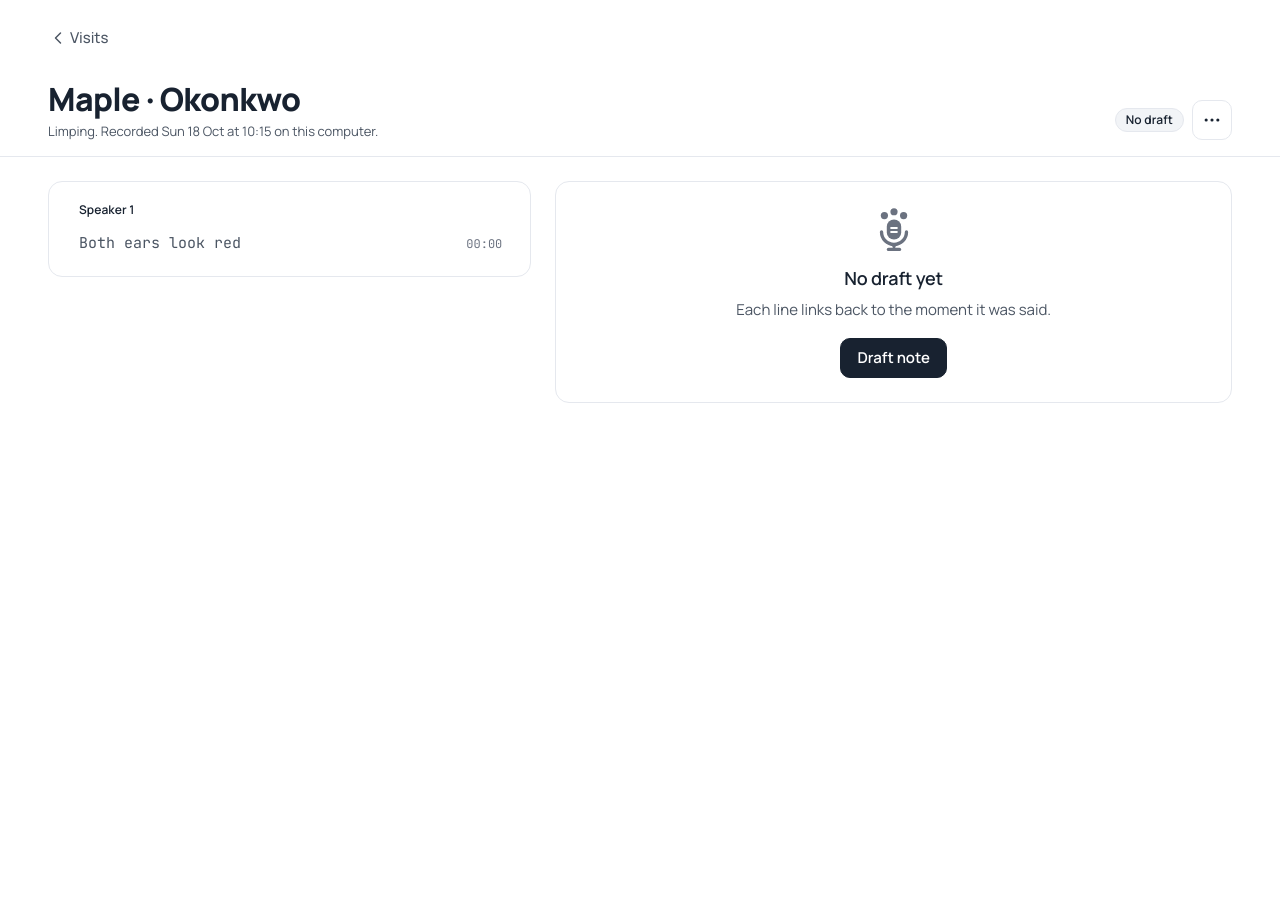
Test: Review: deleting › deletes the recording after the dialog, and shows the line in the player's place
Click the button named "More actions".
click(1212, 120)  # box [1192,100,1232,140]
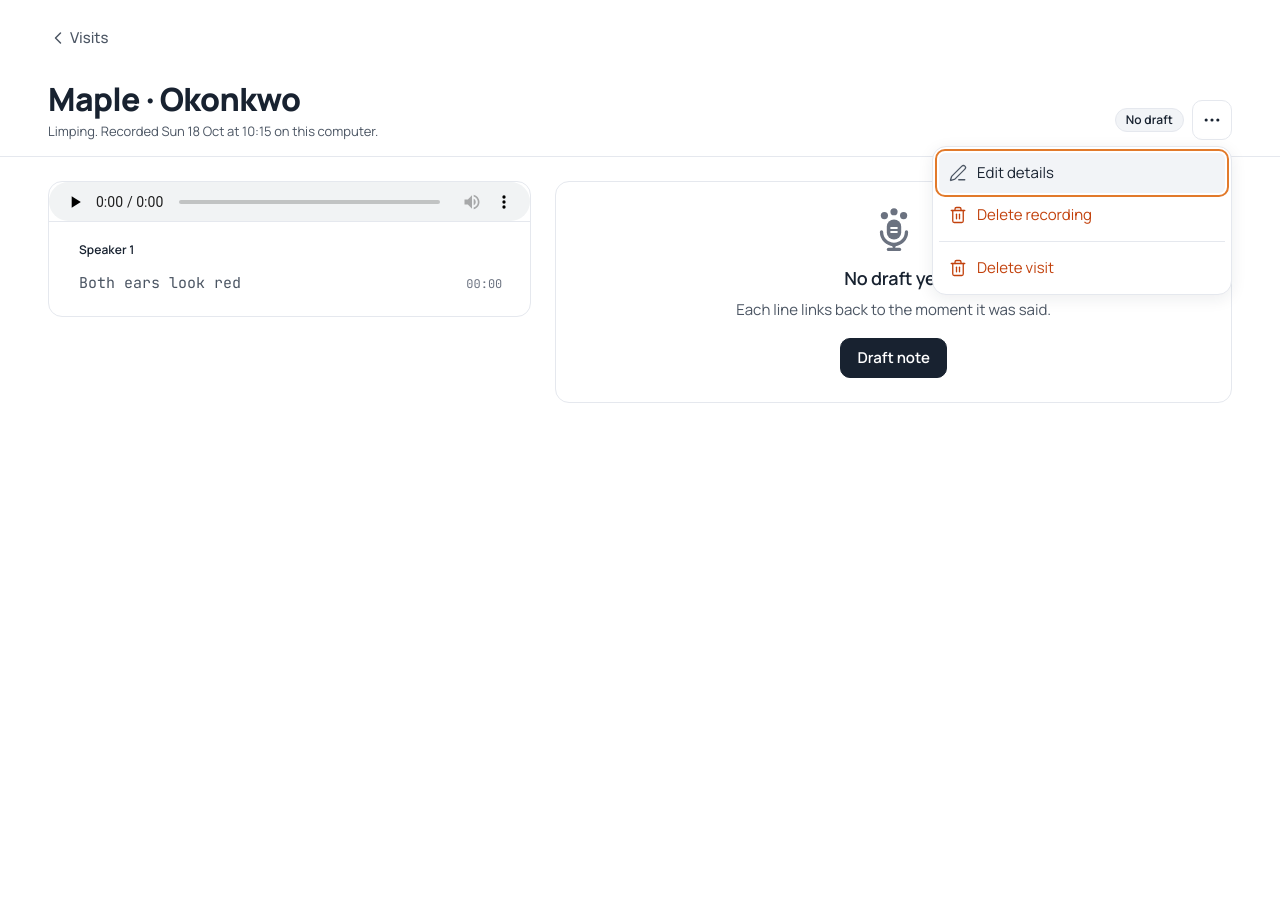
Click the button "Delete recording".
click(1082, 215)  # box [939,195,1225,235]
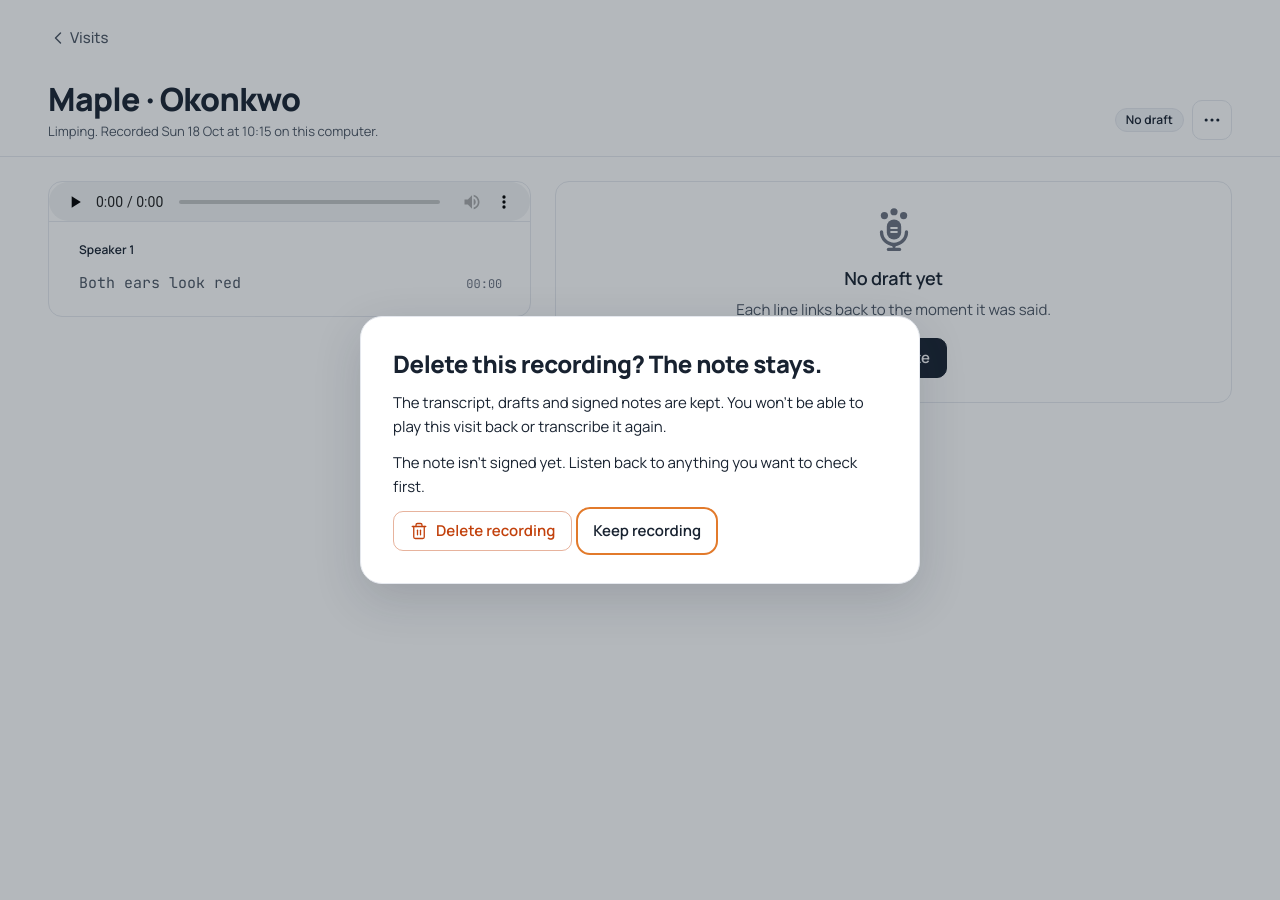
Result: the heading "Delete this recording? The note stays." is shown at [393,349,887,379]
Click the button "Delete recording".
click(483, 531)  # box [393,511,572,551]
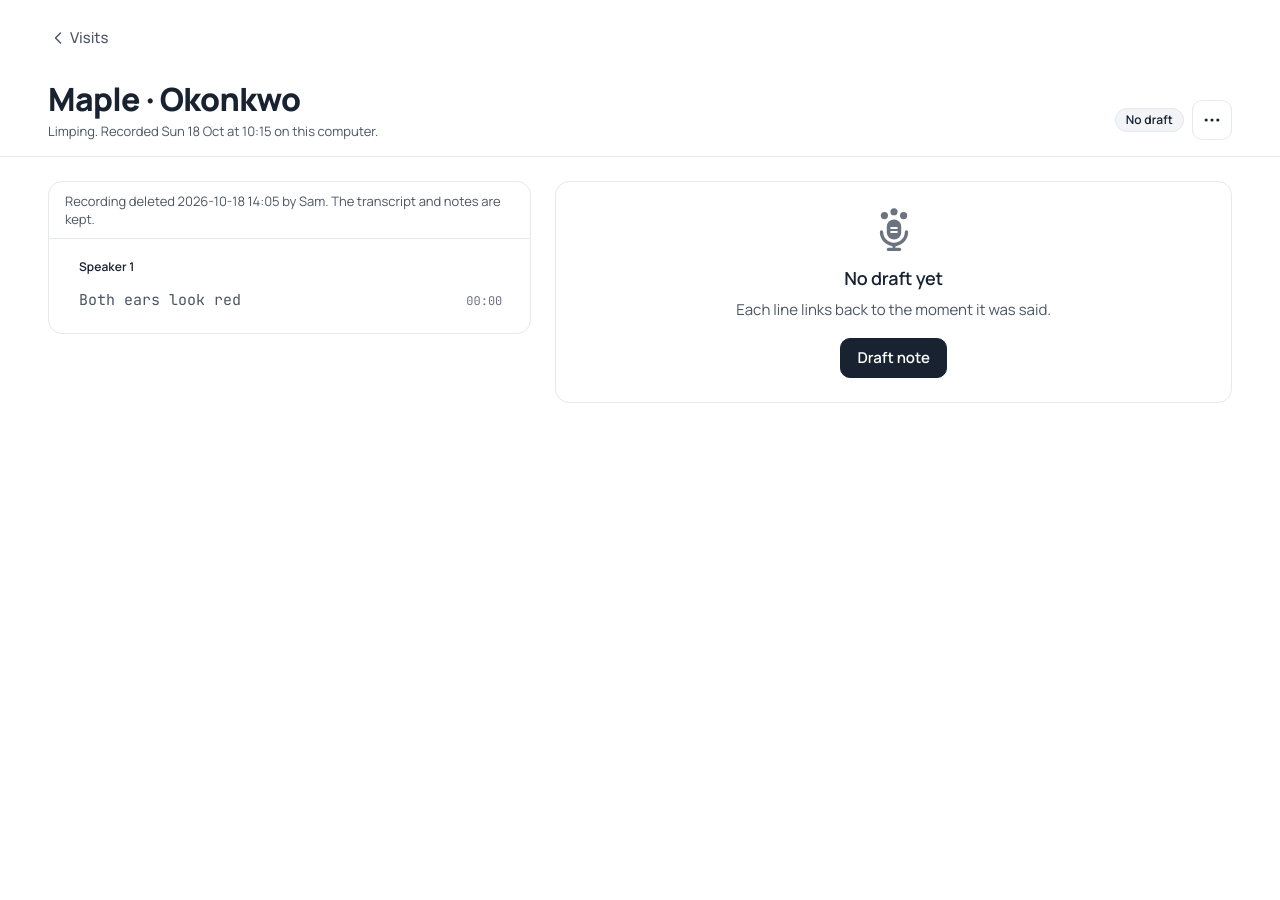
Result: the button "Delete recording" is gone
